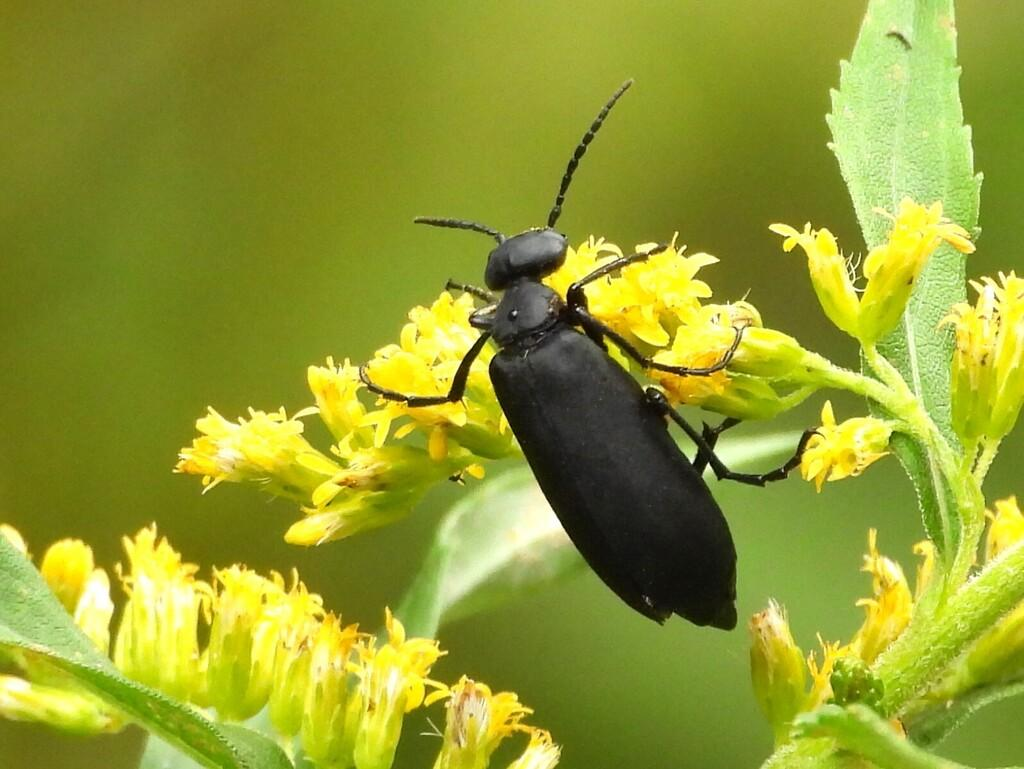blister_beetle: (308, 22, 865, 719)
